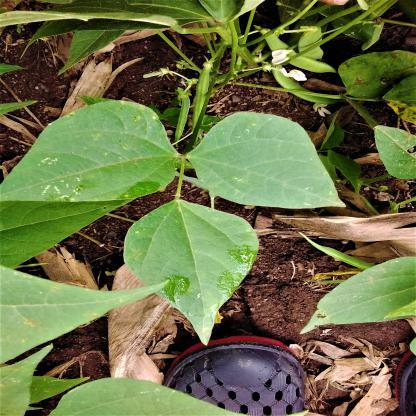Beans_Rust: (0, 101, 182, 206), (0, 258, 166, 363), (191, 110, 354, 200), (338, 52, 416, 130)
